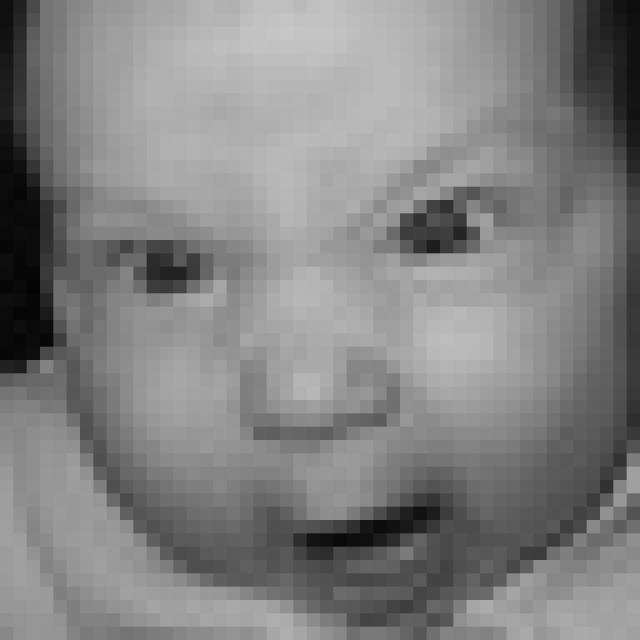angry: (47, 149, 551, 598)
